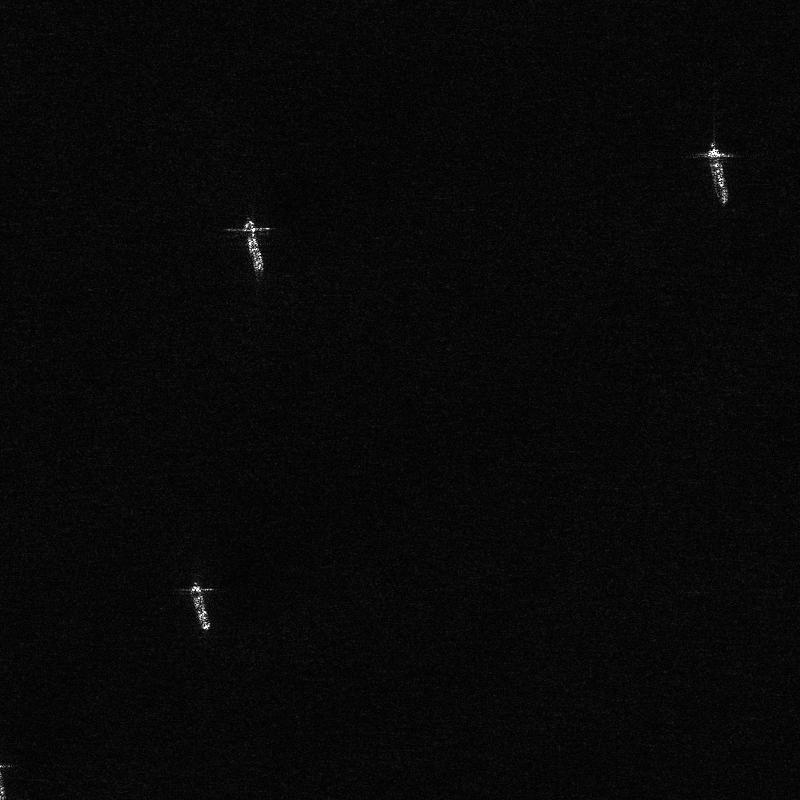ship: (707, 146, 729, 205), (243, 219, 264, 272), (190, 581, 210, 630)
